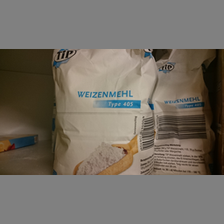flour: (51, 49, 158, 174), (151, 50, 216, 174)
